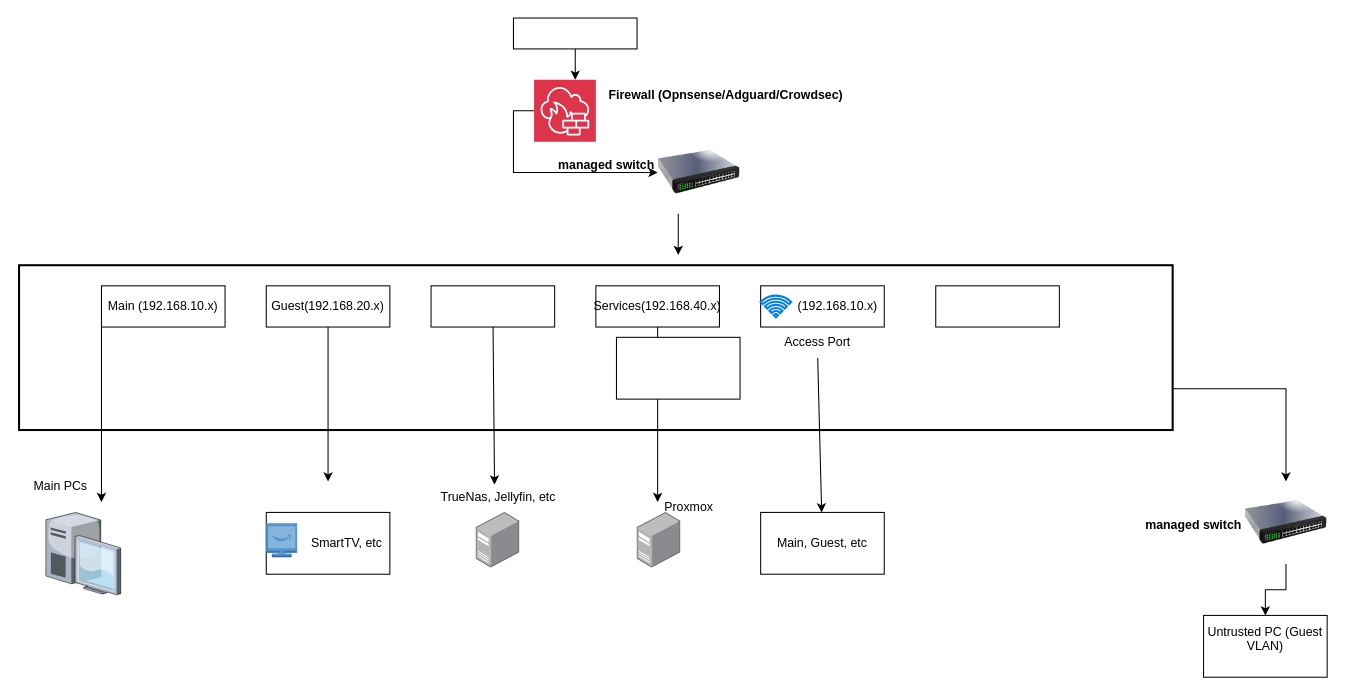
Image size: 1345x695. Some labels were removed from this diagram. Each missing label, with the box of its shape:
ISP: (512, 17, 637, 49)
LAN (192.168.0.x): (935, 285, 1059, 327)
Media(192.168.30.x): (430, 285, 555, 327)
